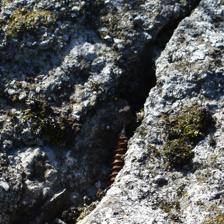Crack: (41, 2, 161, 220)
